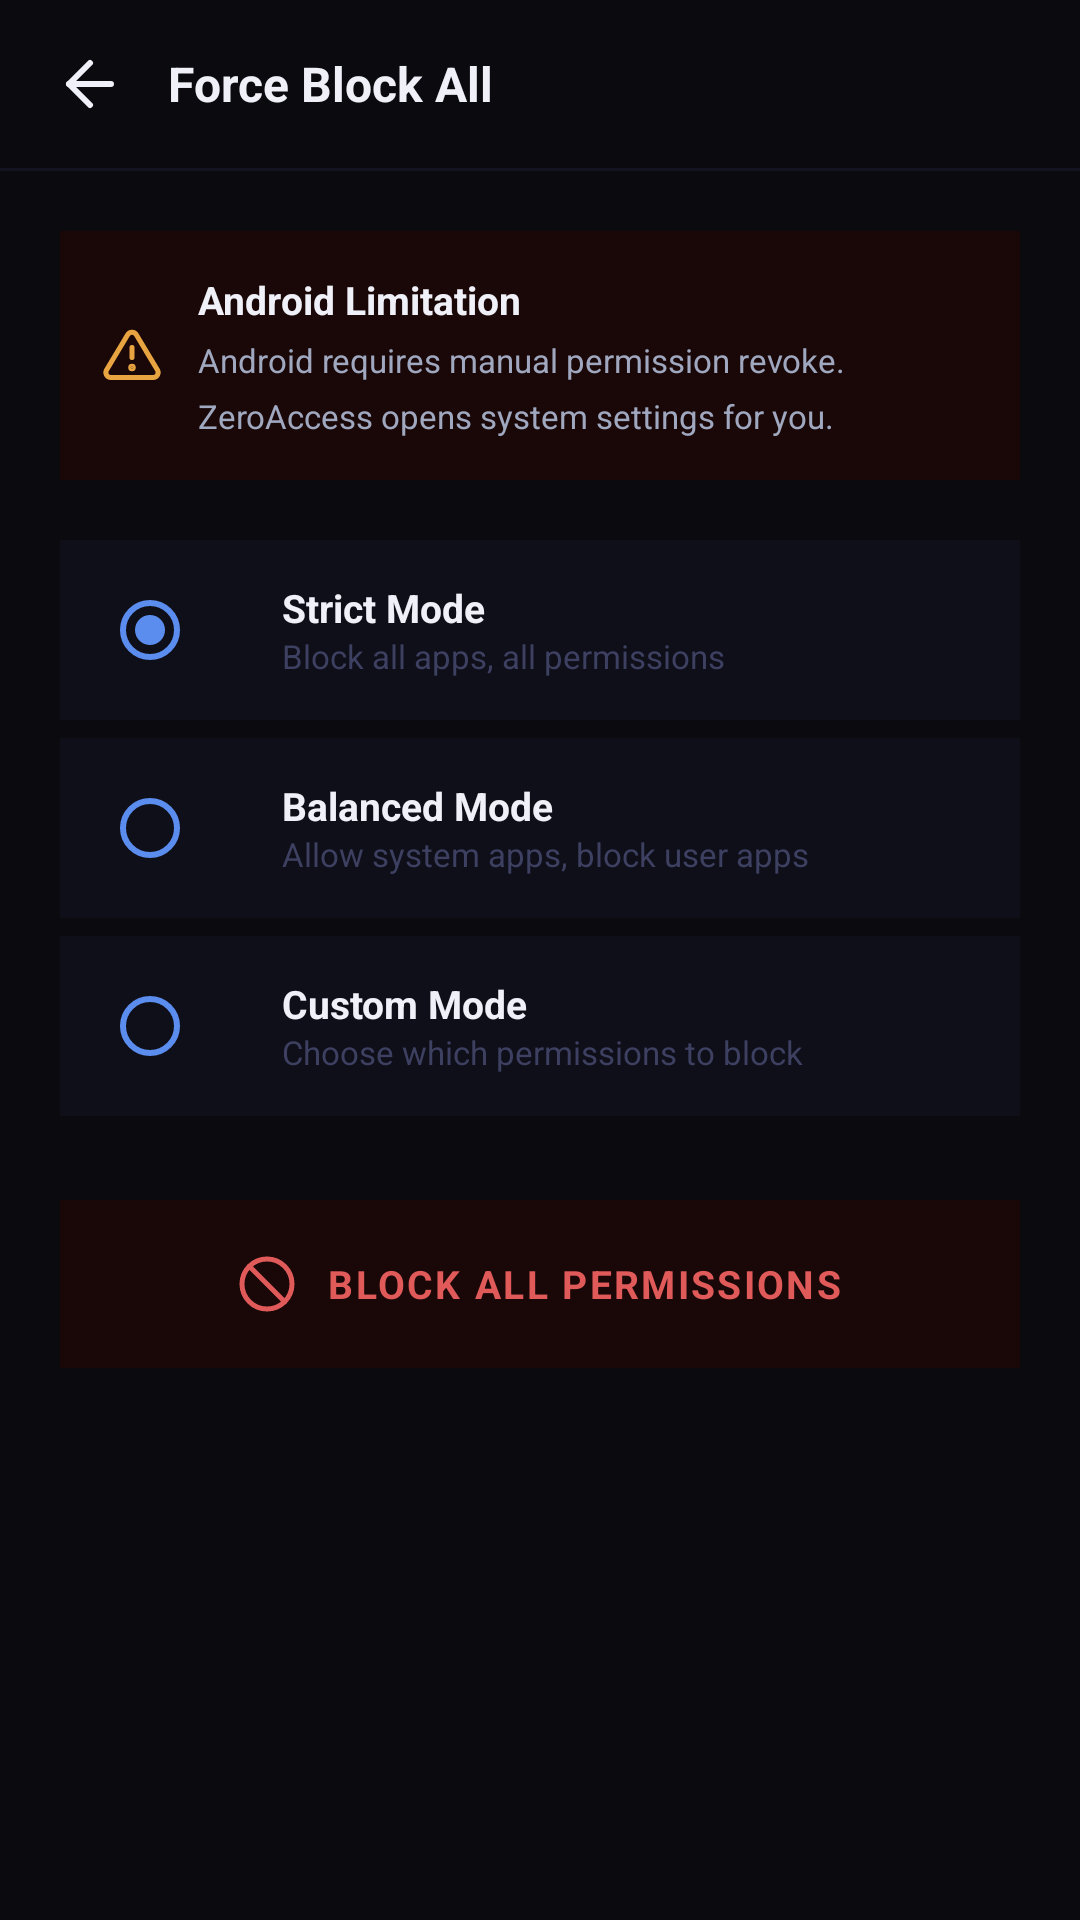

Where icons sit on this 1080x1920 app screen, as (x1, y1, x2, y2):
arrow back: (66, 60, 114, 108)
warning: (103, 329, 161, 380)
